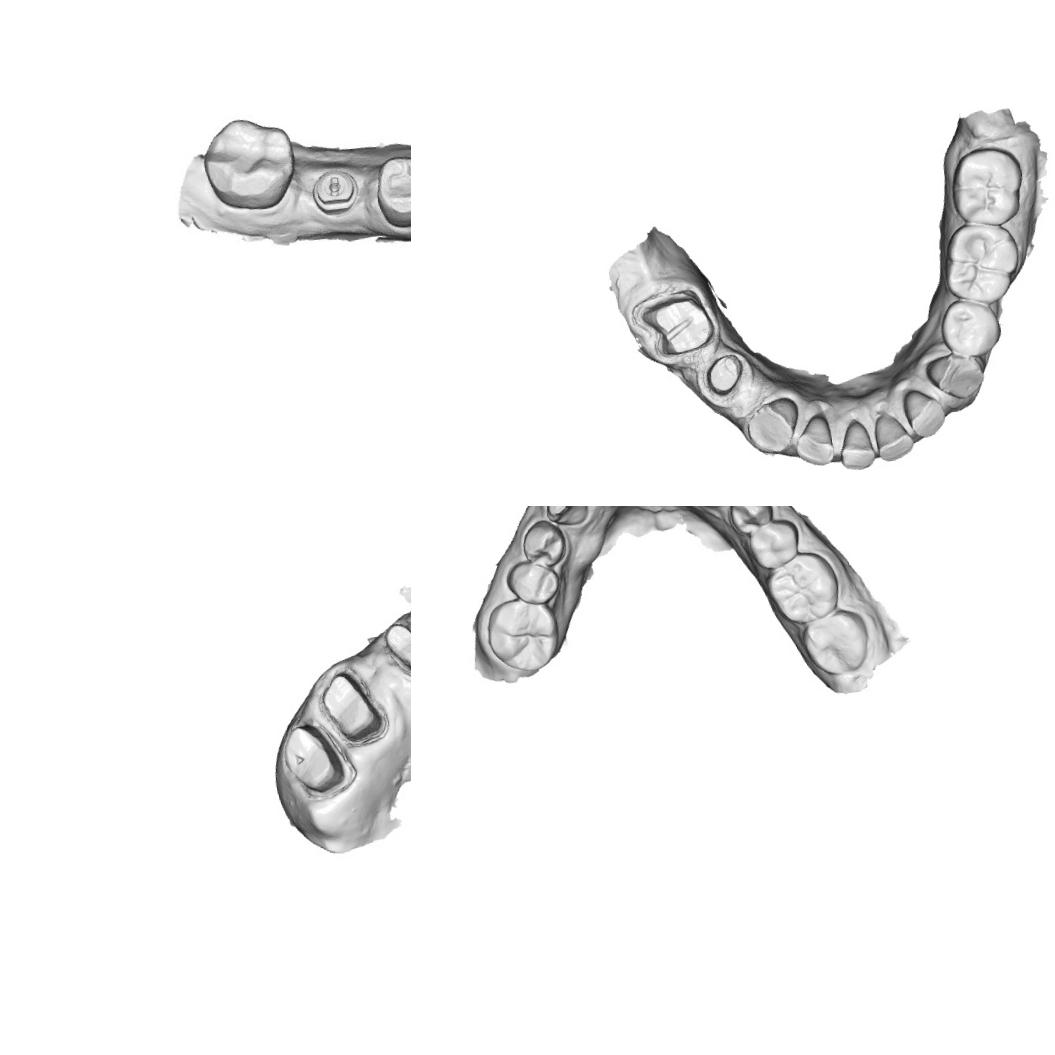canine: (743, 394, 804, 460), (922, 349, 992, 406), (540, 506, 590, 529)
crown: (636, 289, 722, 368), (316, 661, 390, 749), (279, 720, 349, 800), (698, 348, 751, 402), (379, 617, 411, 684)
implant_minus: (305, 154, 366, 226)
incisor: (898, 384, 951, 442), (788, 410, 837, 470), (870, 408, 918, 464), (834, 416, 878, 474)
molar: (195, 108, 296, 210), (936, 217, 1027, 312), (945, 141, 1031, 233), (482, 594, 566, 677), (762, 546, 843, 628), (798, 607, 873, 680)
premolar: (936, 294, 1006, 362), (744, 515, 804, 572), (503, 555, 562, 610), (517, 516, 569, 571), (374, 150, 411, 224), (723, 506, 776, 537)
